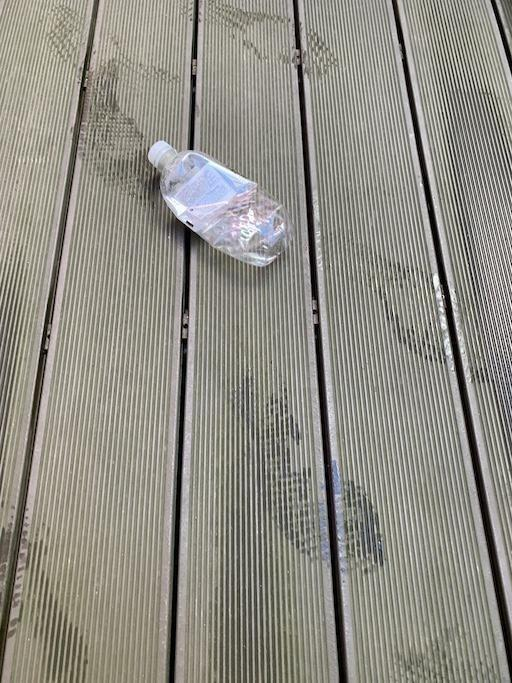bottle-plastic: (147, 136, 296, 271)
